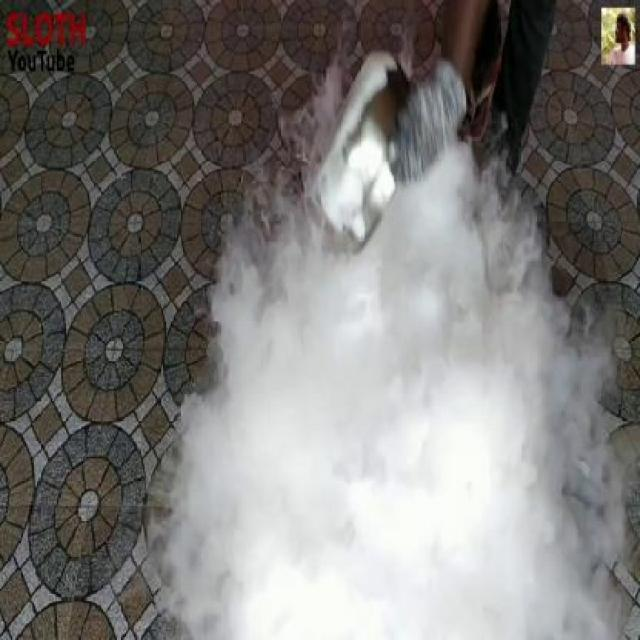smoke: (200, 213, 582, 607)
